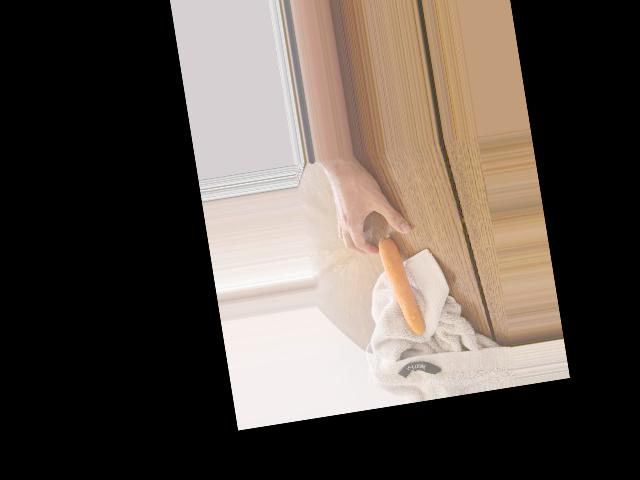carrot: (376, 232, 426, 339)
